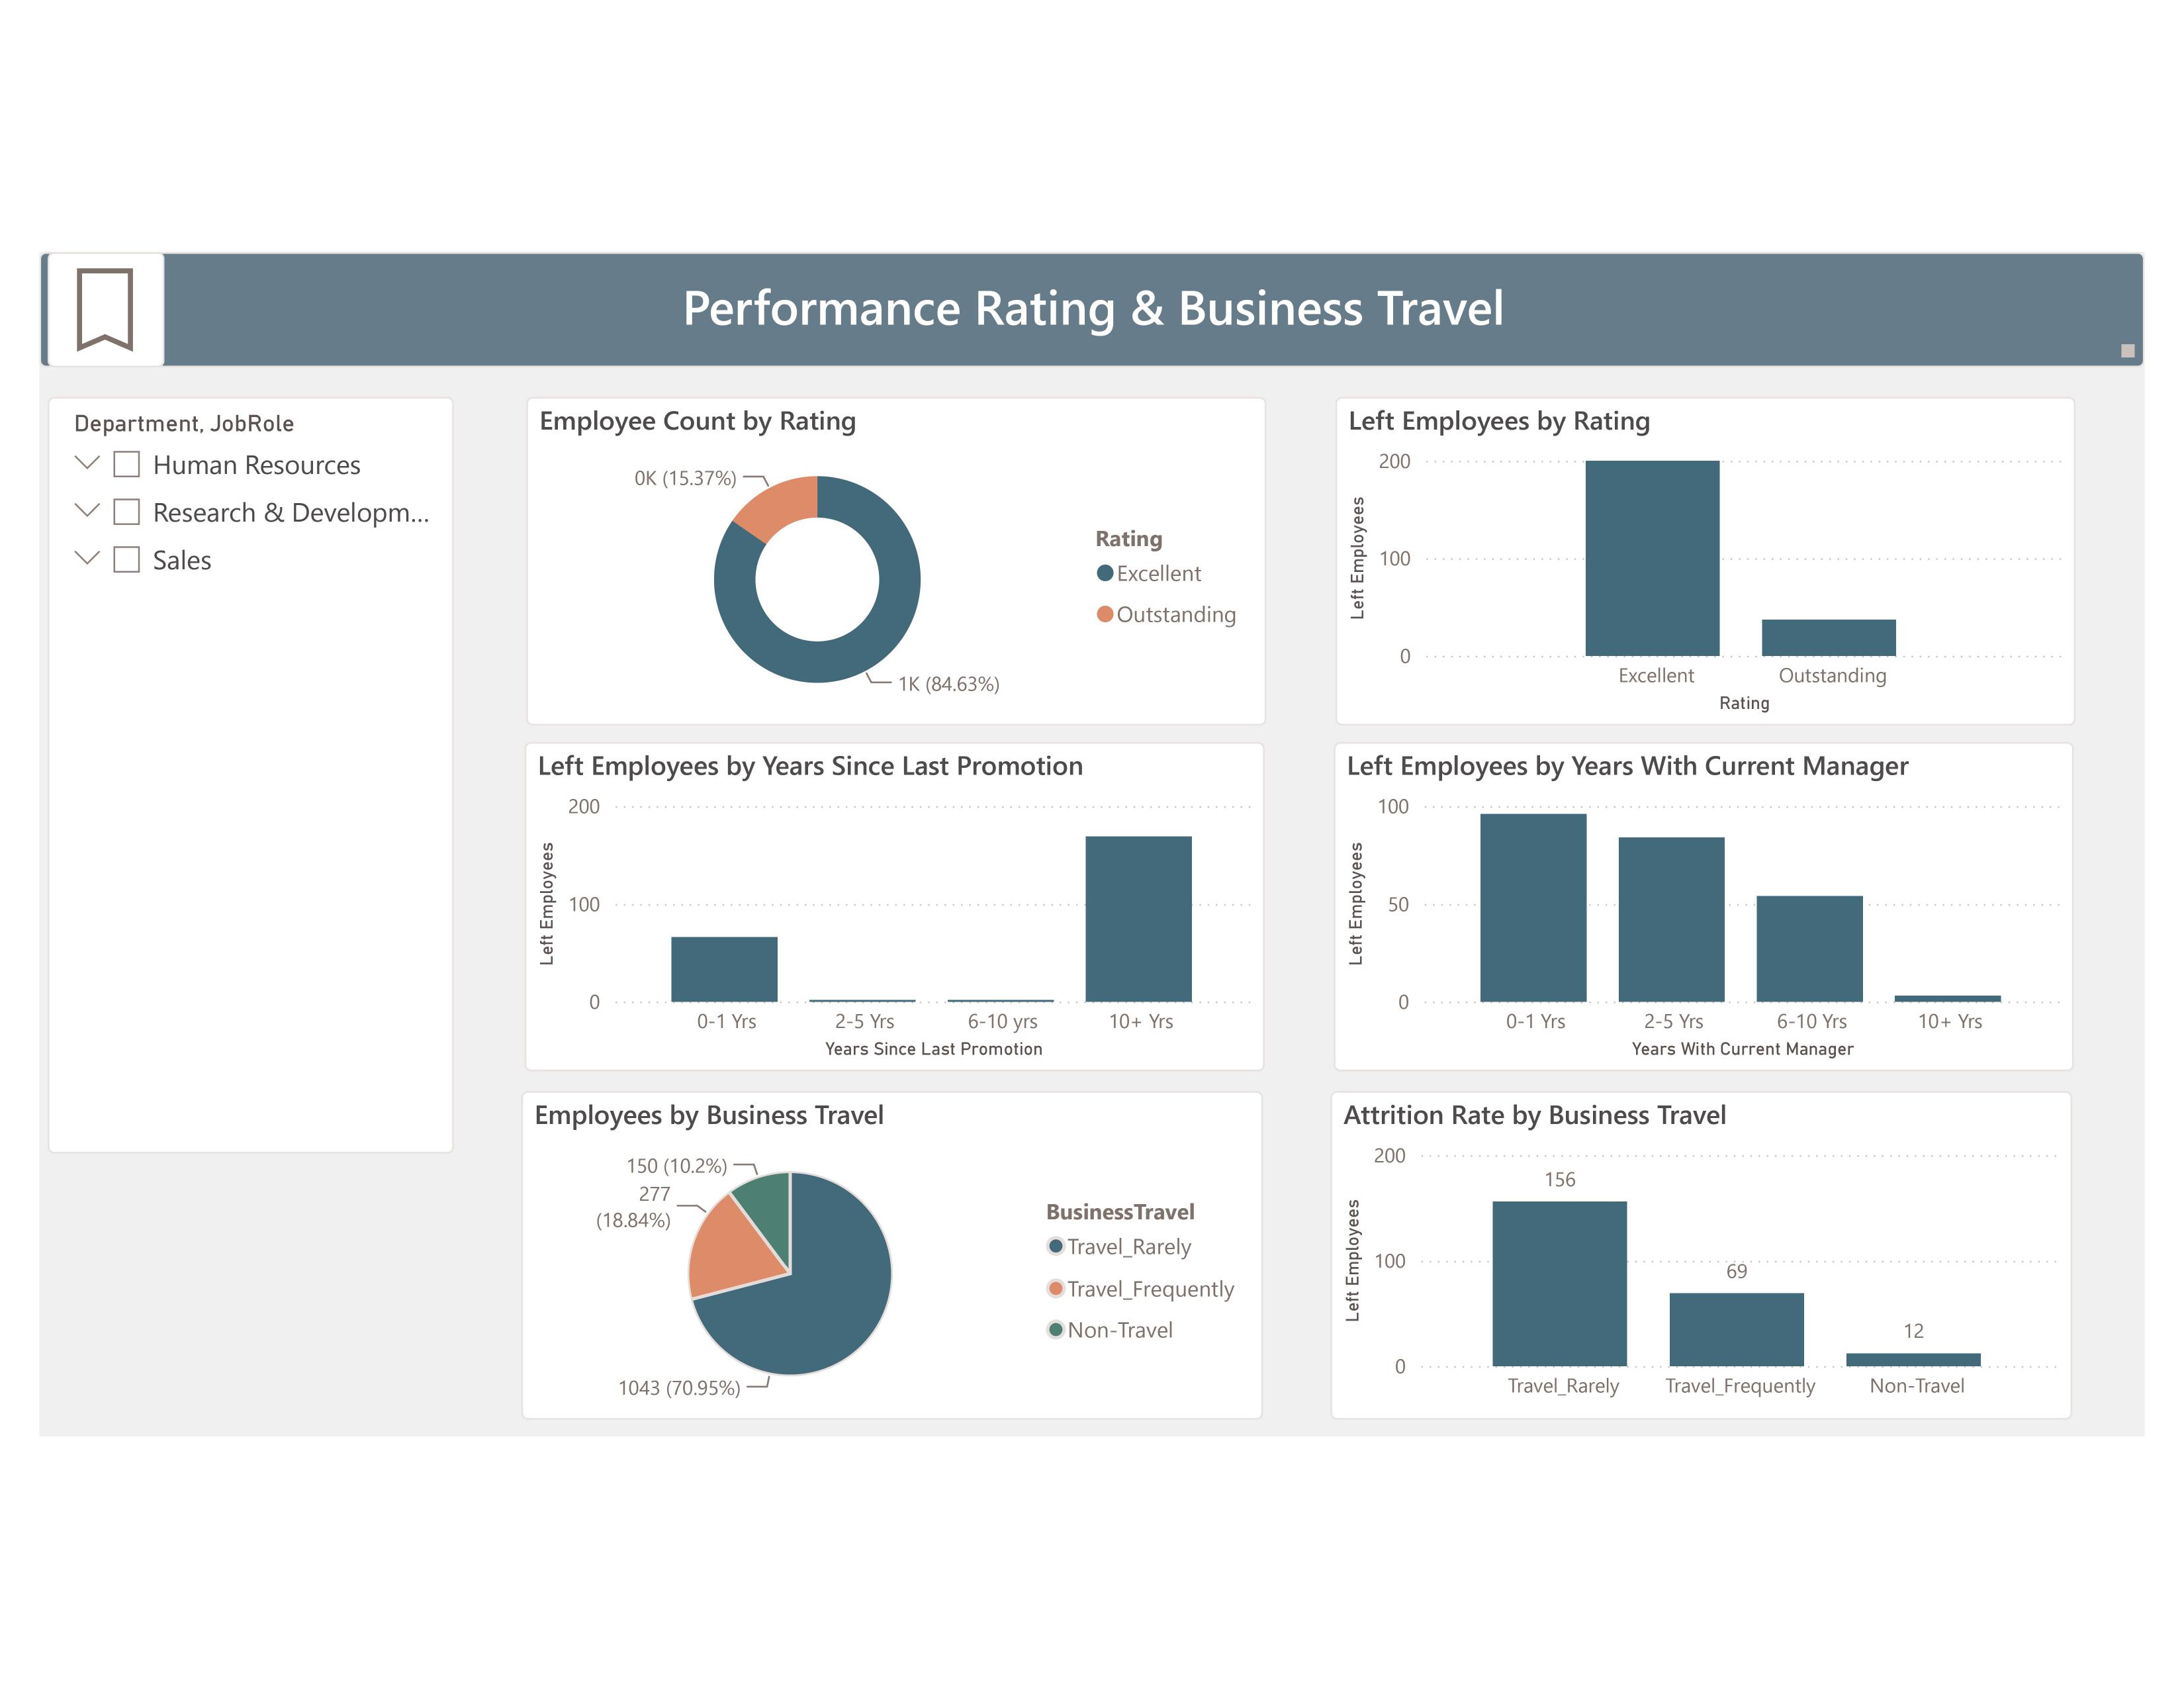

What the dashboard file says about the page in this screenshot:
{"tool":"powerbi","page":{"name":"Business Travel & Performance Rating","canvas":[1280,720],"ordinal":7},"visuals":[{"type":"textbox","title":"Performance Rating & Business Travel","box":[0,0,1279.8,70],"z":0},{"type":"slicer","fields":{"Values":["Survey Input.Department","Survey Input.JobRole"]},"box":[4.7,88.4,247.7,459.3],"z":1000},{"type":"pieChart","title":"Employees by Business Travel","fields":{"Category":["Survey Input.BusinessTravel"],"Y":["Sum(Survey Input.EmployeeCount)"]},"box":[293.3,510.2,450.3,200],"z":2000},{"type":"clusteredColumnChart","title":"Attrition Rate by Business Travel","fields":{"Category":["Survey Input.BusinessTravel"],"Y":["All_Measures.Left Employees"]},"box":[785.3,510.2,450.3,200],"z":3000},{"type":"donutChart","fields":{"Category":["PerformanceRatingScale.Rating"],"Y":["Sum(Survey Input.EmployeeCount)"]},"box":[295.7,88.3,450.3,200],"z":4000},{"type":"clusteredColumnChart","fields":{"Category":["PerformanceRatingScale.Rating"],"Y":["All_Measures.Left Employees"]},"box":[787.7,88.3,450.3,200],"z":5000},{"type":"columnChart","fields":{"Category":["Survey Input.YearsSinceLastPromotionBins"],"Y":["All_Measures.Left Employees"]},"box":[294.7,297.9,450.3,200],"z":6000},{"type":"clusteredColumnChart","fields":{"Category":["Survey Input.YearsWithCurrManagerBins"],"Y":["All_Measures.Left Employees"]},"box":[786.8,297.9,450.3,200],"z":7000},{"type":"actionButton","box":[4.9,0,71.2,69.9],"z":8000}]}

Visuals, with their boxes on the page's 1280x720 design canvas (x1, y1, x2, y2). These are canvas units, not pixel positions in the 2184x1688 screenshot, which may show the page scaled, cropped or inside an application window:
"Performance Rating & Business Travel" textbox: (x1=0, y1=0, x2=1280, y2=70)
slicer - Survey Input.Department x Survey Input.JobRole: (x1=5, y1=88, x2=252, y2=548)
"Employees by Business Travel" pieChart: (x1=293, y1=510, x2=744, y2=710)
"Attrition Rate by Business Travel" clusteredColumnChart: (x1=785, y1=510, x2=1236, y2=710)
donutChart - PerformanceRatingScale.Rating x Sum(Survey Input.EmployeeCount): (x1=296, y1=88, x2=746, y2=288)
clusteredColumnChart - PerformanceRatingScale.Rating x All_Measures.Left Employees: (x1=788, y1=88, x2=1238, y2=288)
columnChart - Survey Input.YearsSinceLastPromotionBins x All_Measures.Left Employees: (x1=295, y1=298, x2=745, y2=498)
clusteredColumnChart - Survey Input.YearsWithCurrManagerBins x All_Measures.Left Employees: (x1=787, y1=298, x2=1237, y2=498)
actionButton: (x1=5, y1=0, x2=76, y2=70)
